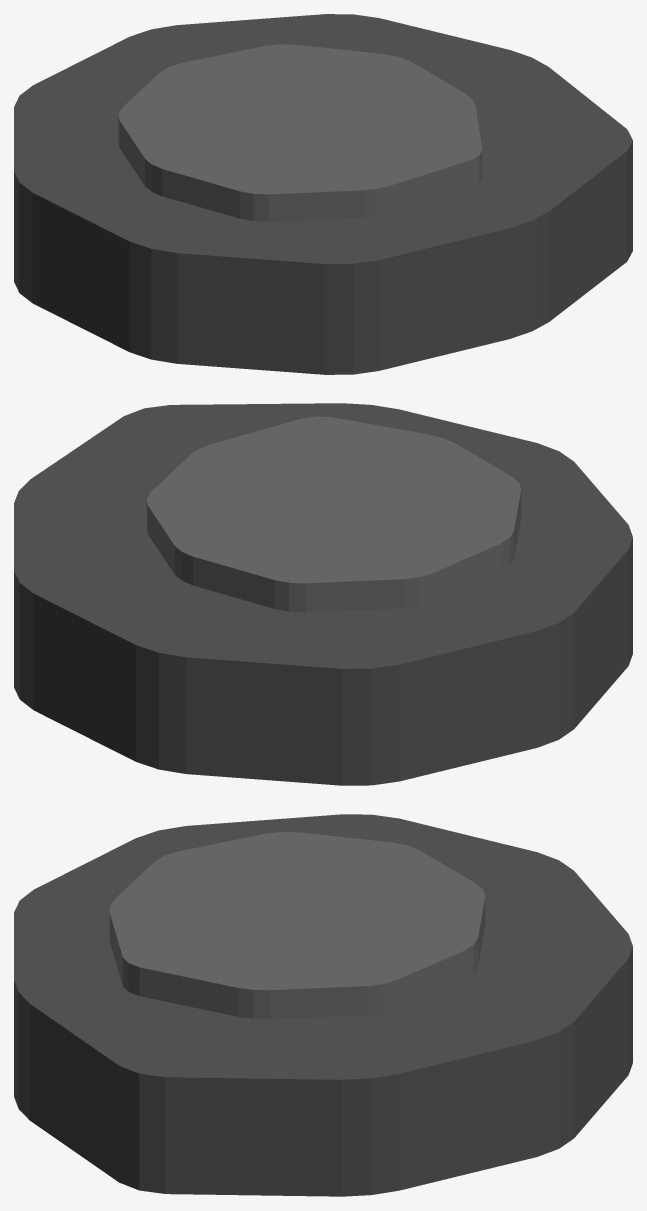
The model's file is stone_viewport.fbx.
The picture shows the model from 3 angles, top to bottom: view 1: azimuth 30°, elevation 25°; view 2: azimuth 150°, elevation 25°; view 3: azimuth 270°, elevation 25°; orthographic projection. The views are drawn at different scales.
Parts seen in each view (by area): view 1: stone_viewport_body; view 2: stone_viewport_body; view 3: stone_viewport_body.
Part boxes in pixels (bbox=[...]): stone_viewport_body: bbox=[14, 14, 632, 374]; stone_viewport_body: bbox=[14, 403, 632, 785]; stone_viewport_body: bbox=[14, 814, 632, 1196].
Bounding box in the file's own units: 0.9749 × 0.2494 × 0.9603.
Materials: 1 (1 with a texture image).
